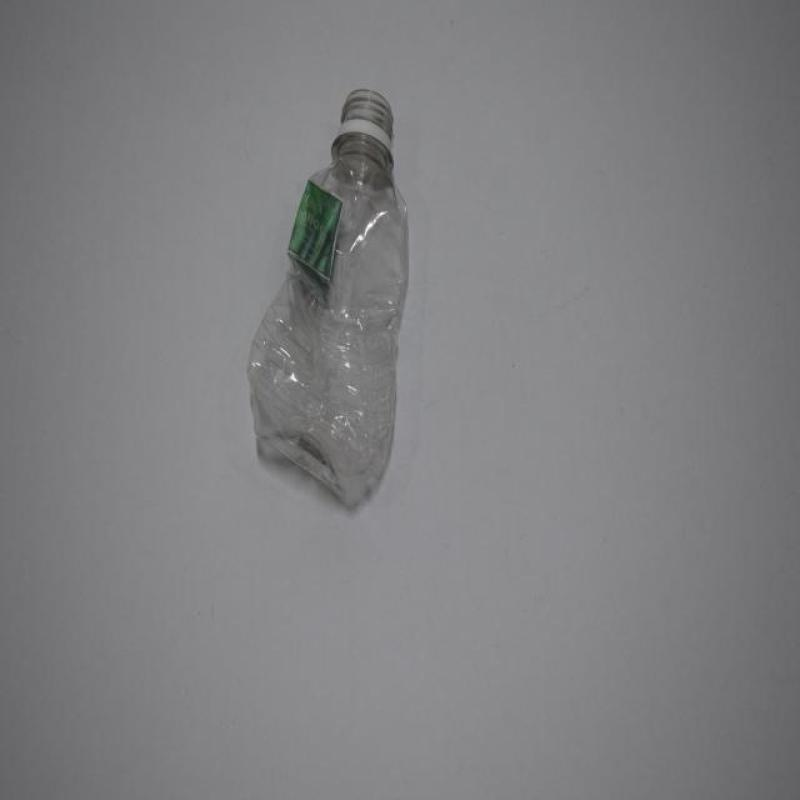botella: (247, 86, 408, 509)
